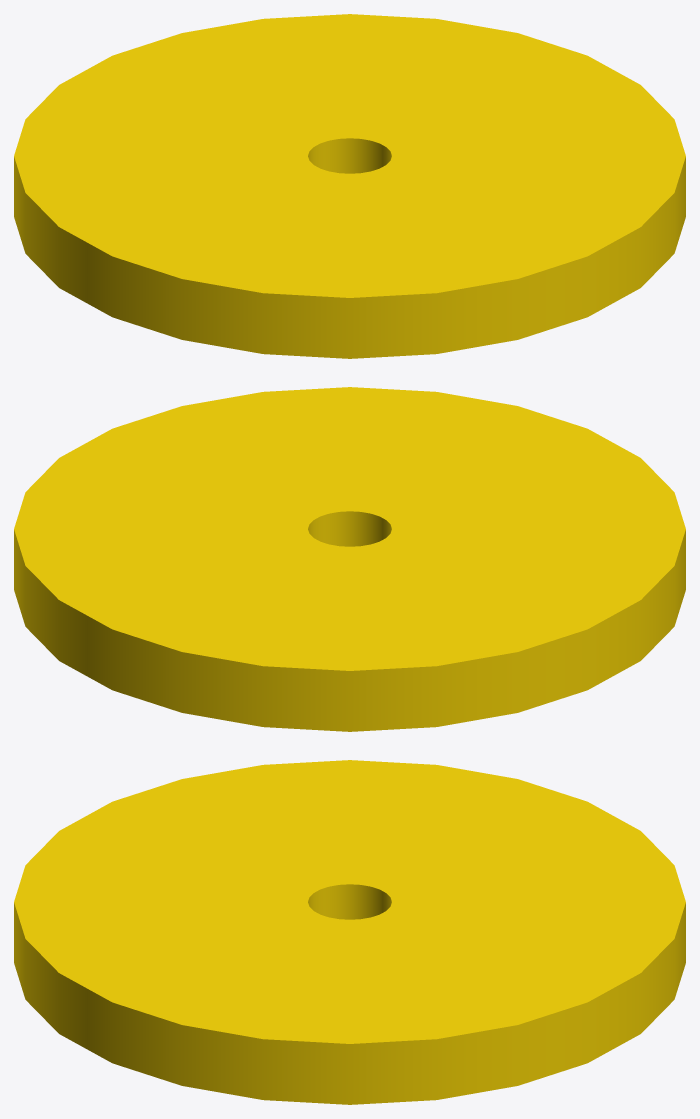
The model's file is disc4.dae.
The picture shows the model from 3 angles, top to bottom: view 1: azimuth 30°, elevation 25°; view 2: azimuth 150°, elevation 25°; view 3: azimuth 270°, elevation 25°; orthographic projection.
Visible parts, largest first — view 1: SketchUp (×2); view 2: SketchUp (×2); view 3: SketchUp (×2).
Part boxes in pixels (box(x1,y1,x2,y2)): SketchUp (×2): box(14, 14, 685, 358); SketchUp (×2): box(14, 387, 685, 731); SketchUp (×2): box(14, 760, 685, 1104).
Size of the model in its own units: 5 by 5 by 0.5.
1 material, 1 textured.
